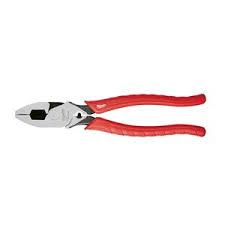pliers: (13, 92, 206, 136)
